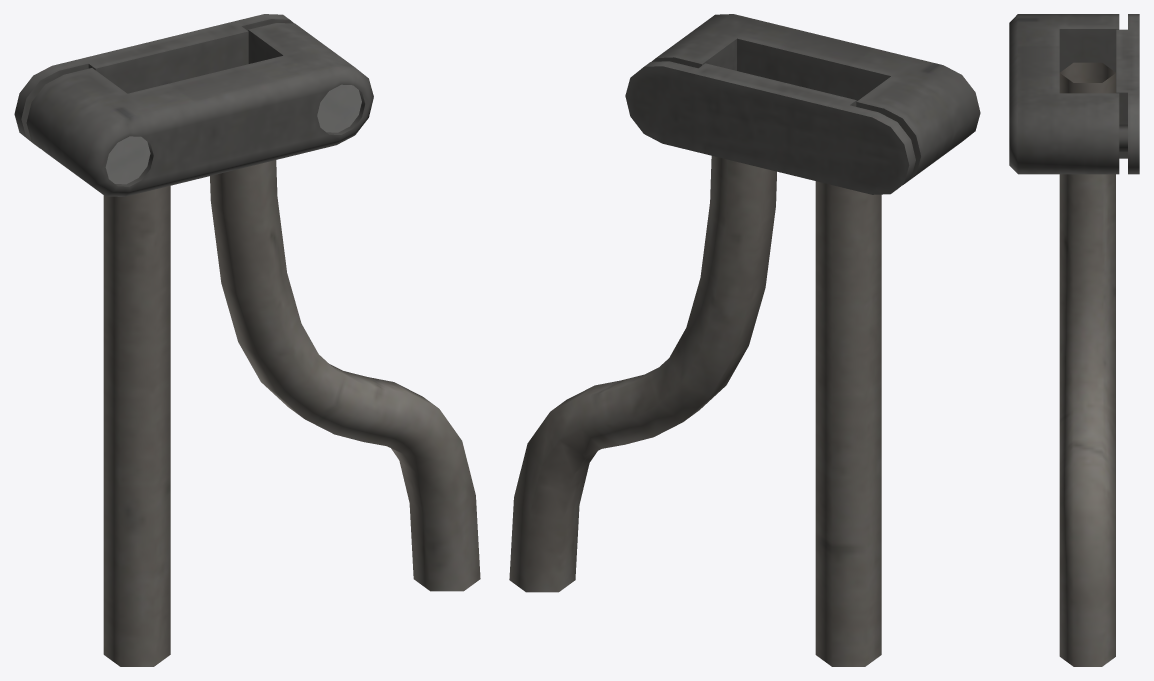
File: cable_cable_to_double_1.fbx
The picture shows the model from 3 angles, left to right: view 1: azimuth 30°, elevation 25°; view 2: azimuth 150°, elevation 25°; view 3: azimuth 270°, elevation 25°; orthographic projection. The views are drawn at different scales.
Visible parts, largest first — view 1: modular_electric_cables__cable_to_double_1; view 2: modular_electric_cables__cable_to_double_1; view 3: modular_electric_cables__cable_to_double_1.
Boxes of the visible parts, <box> form: modular_electric_cables__cable_to_double_1: <box>14,14,480,666</box>; modular_electric_cables__cable_to_double_1: <box>509,14,980,666</box>; modular_electric_cables__cable_to_double_1: <box>1009,14,1139,666</box>.
Bounding box in the file's own units: 0.0827 × 0.1073 × 0.0259.
